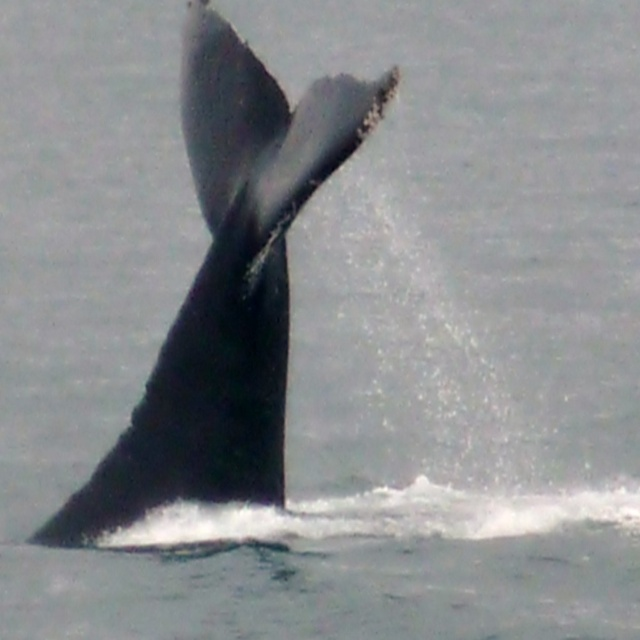Whale: (26, 0, 401, 549)
